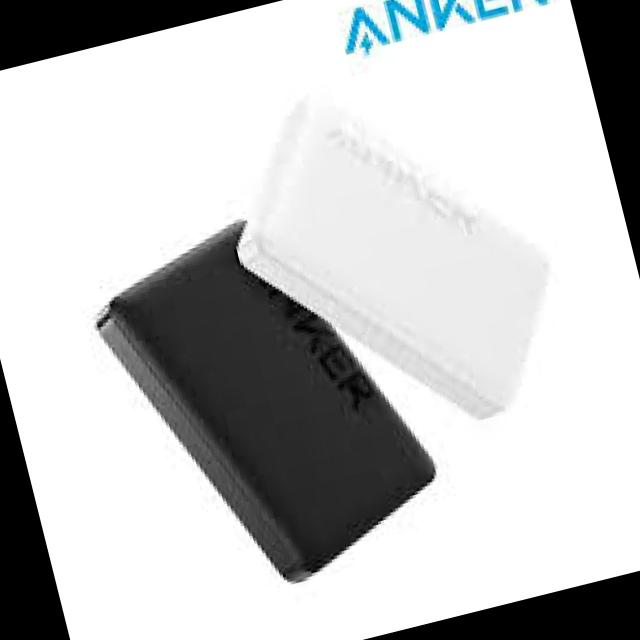portable-charger: (80, 185, 462, 617), (208, 50, 584, 468)
